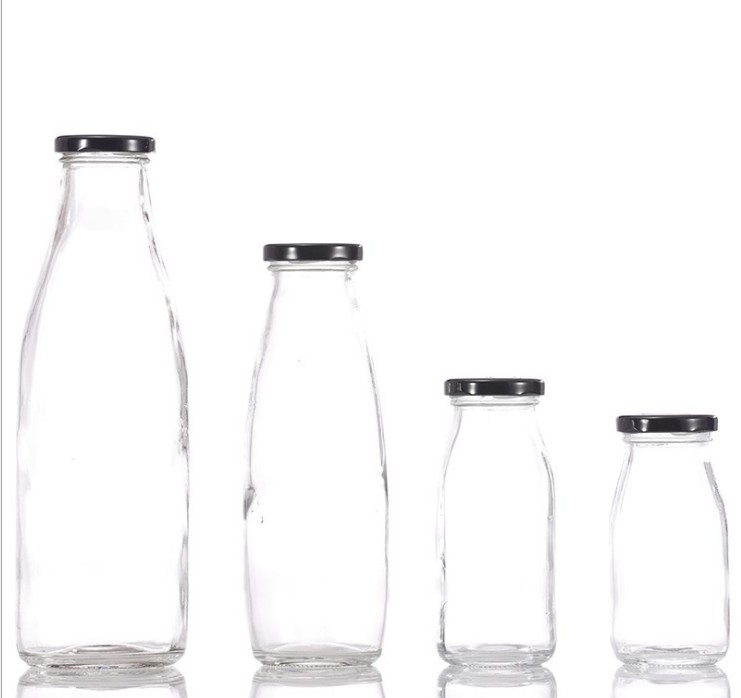glass_bottleww: (19, 95, 209, 688), (225, 111, 414, 698), (421, 244, 583, 691), (591, 313, 732, 698)
